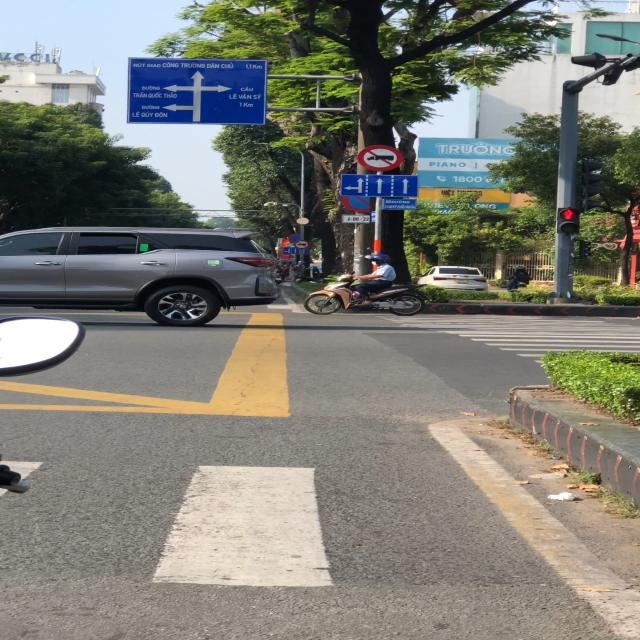Bien bao cam xe so-mi ro-mooc: (354, 141, 408, 176), (292, 238, 311, 251)
